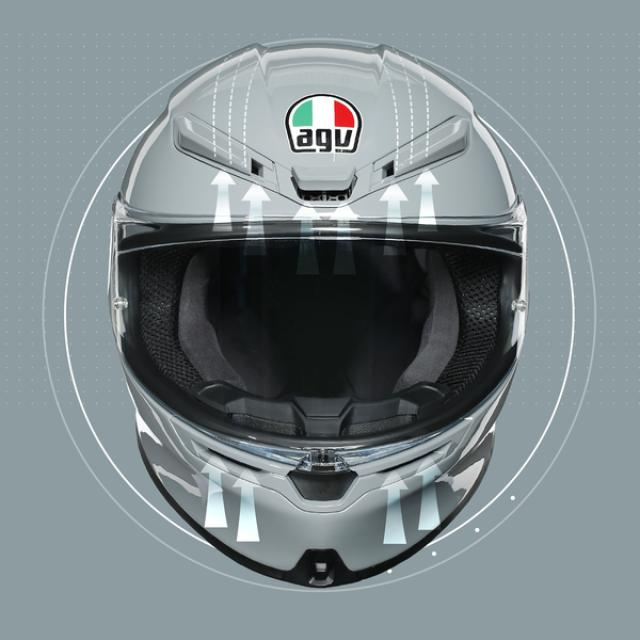Helm: (106, 40, 536, 591)
